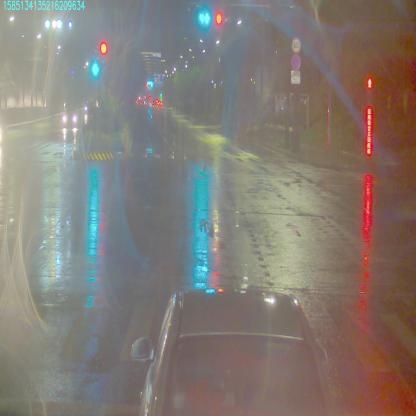traffic-light: (196, 14, 211, 27), (216, 15, 222, 26)
